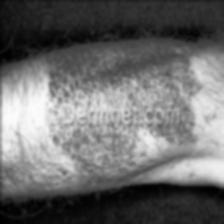Potentially Malignant Skin Tumors: (46, 54, 179, 104), (48, 118, 138, 166)
